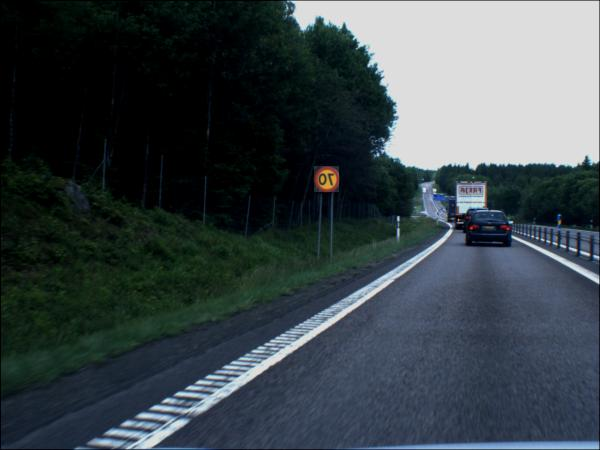70_SIGN: (314, 167, 340, 194)
